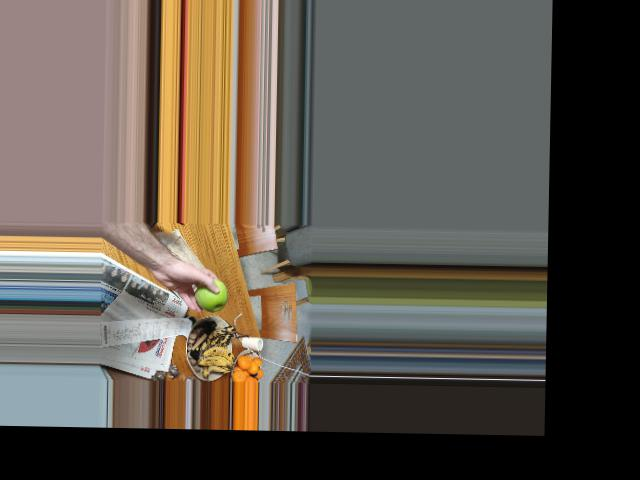apple: (188, 276, 229, 312)
